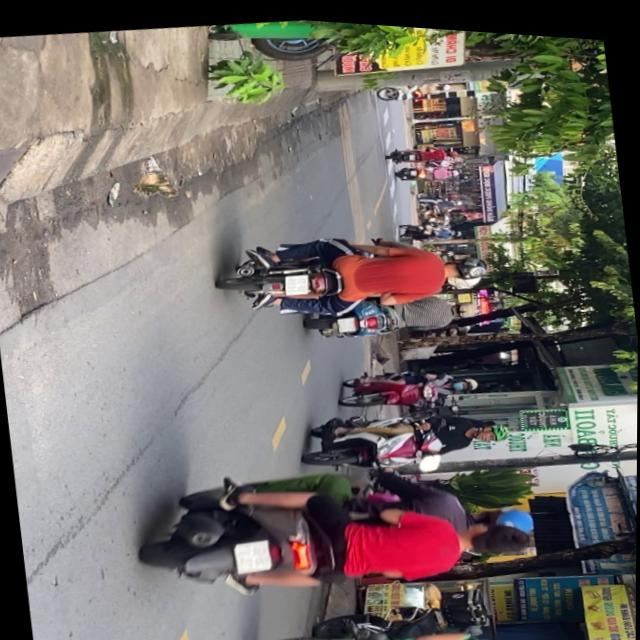helmet: (474, 494, 537, 534), (444, 247, 490, 278), (471, 414, 511, 439), (445, 265, 484, 284), (450, 370, 479, 389), (452, 294, 479, 313), (479, 630, 530, 640)
licenseplate: (131, 429, 546, 623), (214, 207, 494, 330), (298, 389, 515, 481), (231, 592, 532, 640), (301, 278, 482, 348), (336, 352, 482, 414)
motorcyclist: (459, 511, 536, 557)
nohelmet: (234, 535, 273, 572), (282, 269, 308, 292), (336, 311, 356, 328)
